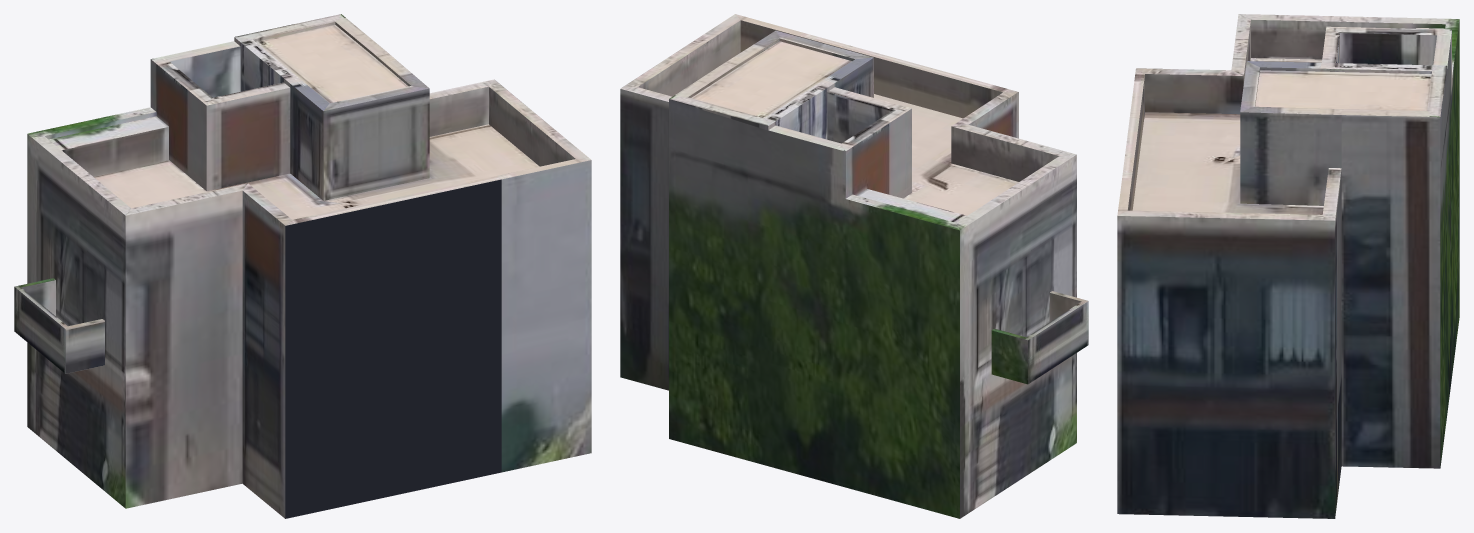
3 views of the same model, side by side, from view 1: azimuth 30°, elevation 25°; view 2: azimuth 150°, elevation 25°; view 3: azimuth 270°, elevation 25° (orthographic). The views are drawn at different scales.
Parts seen in each view (by area): view 1: B283734035801062A0; view 2: B283734035801062A0; view 3: B283734035801062A0.
Boxes of the visible parts, left/top/right/bottom form: B283734035801062A0: left=14, top=14, right=591, bottom=518; B283734035801062A0: left=620, top=14, right=1088, bottom=518; B283734035801062A0: left=1117, top=14, right=1459, bottom=518.
Size of the model in its own units: 14.87 by 10.84 by 9.57.
Materials: 1 (1 with a texture image).
